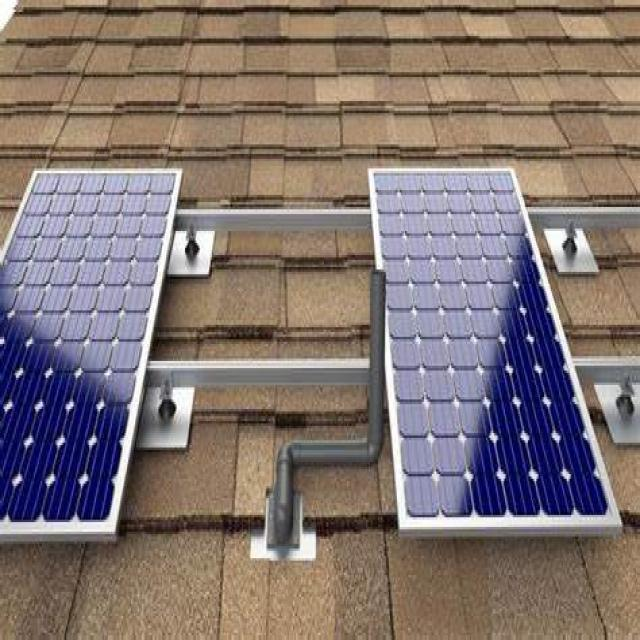no faulty: (373, 172, 610, 513), (0, 168, 182, 530)
